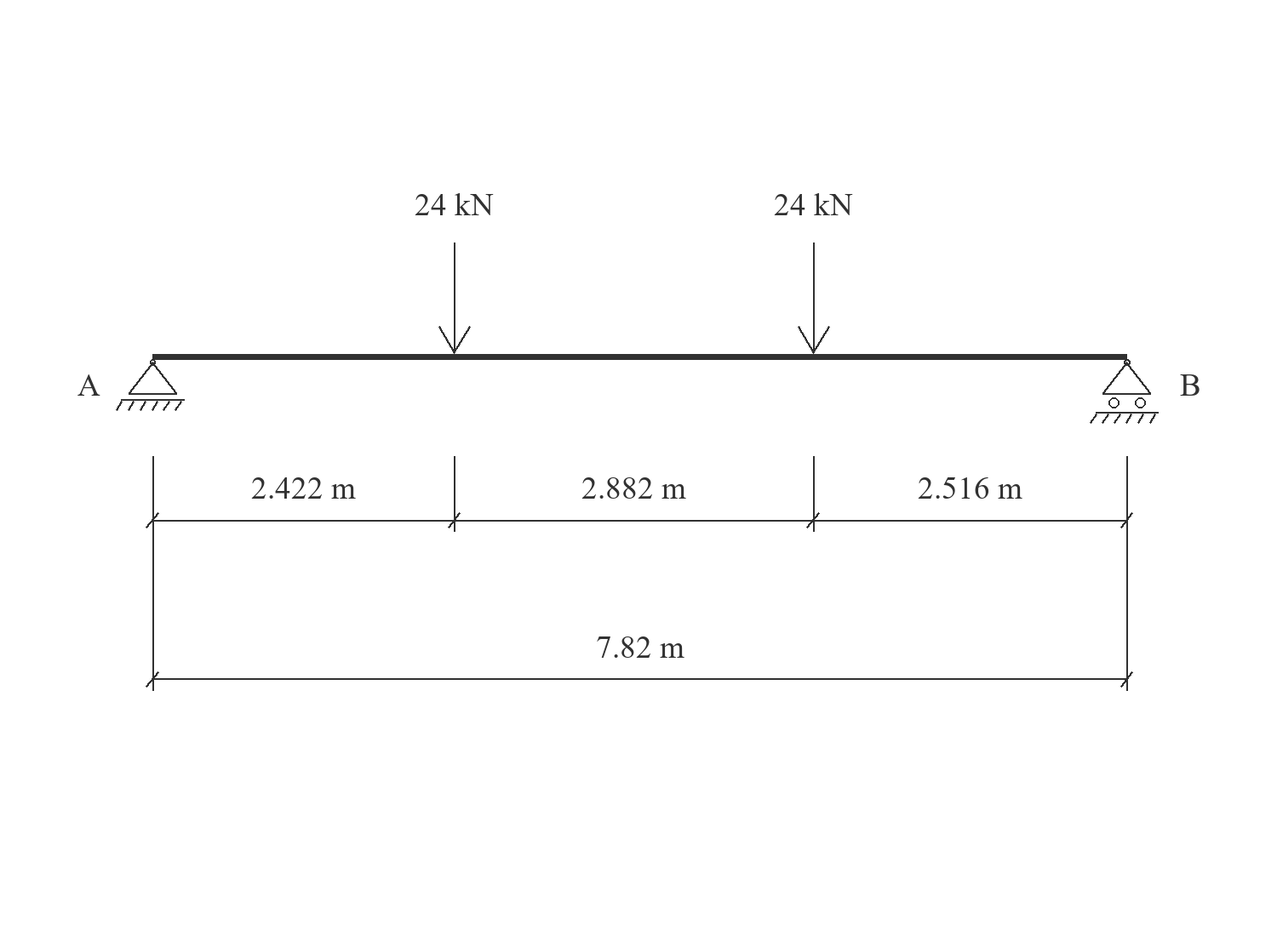pin_support: (116, 359, 185, 411)
point_load: (438, 243, 471, 354), (798, 243, 830, 354)
roller_support: (1090, 359, 1159, 424)
